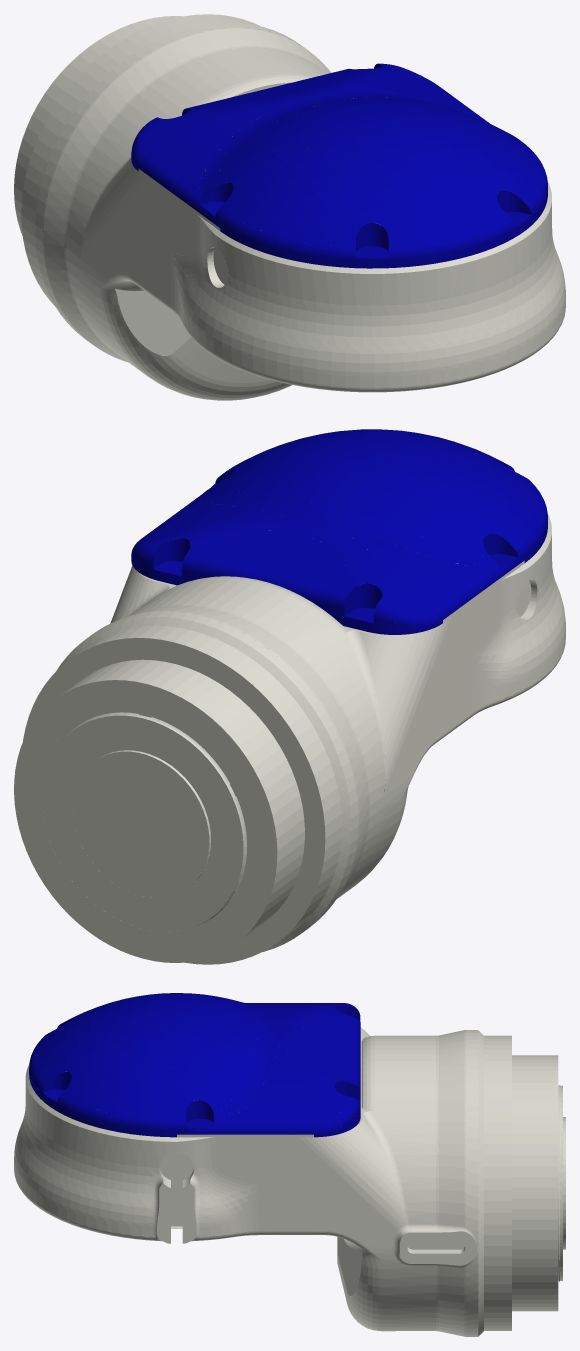
3 views of the same model, one above another, from view 1: azimuth 30°, elevation 25°; view 2: azimuth 150°, elevation 25°; view 3: azimuth 270°, elevation 25° (orthographic). The views are drawn at different scales.
Visible parts, largest first — view 1: Base, Cover; view 2: Base, Cover; view 3: Base, Cover.
Boxes of the visible parts, <box> form: Base: <box>14,14,565,400</box>; Cover: <box>131,63,547,268</box>; Base: <box>14,514,565,964</box>; Cover: <box>131,429,547,634</box>; Base: <box>14,1027,565,1336</box>; Cover: <box>29,993,360,1137</box>.
Size of the model in its own units: 0.14 by 0.2372 by 0.146.
